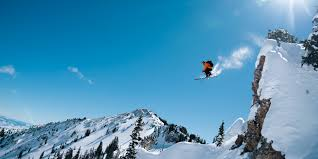skis: (196, 73, 215, 81)
